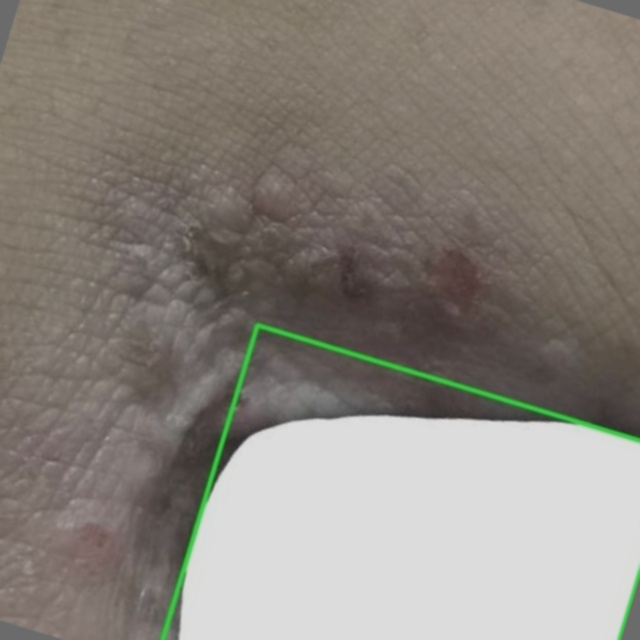Scabies: (162, 325, 639, 639)
